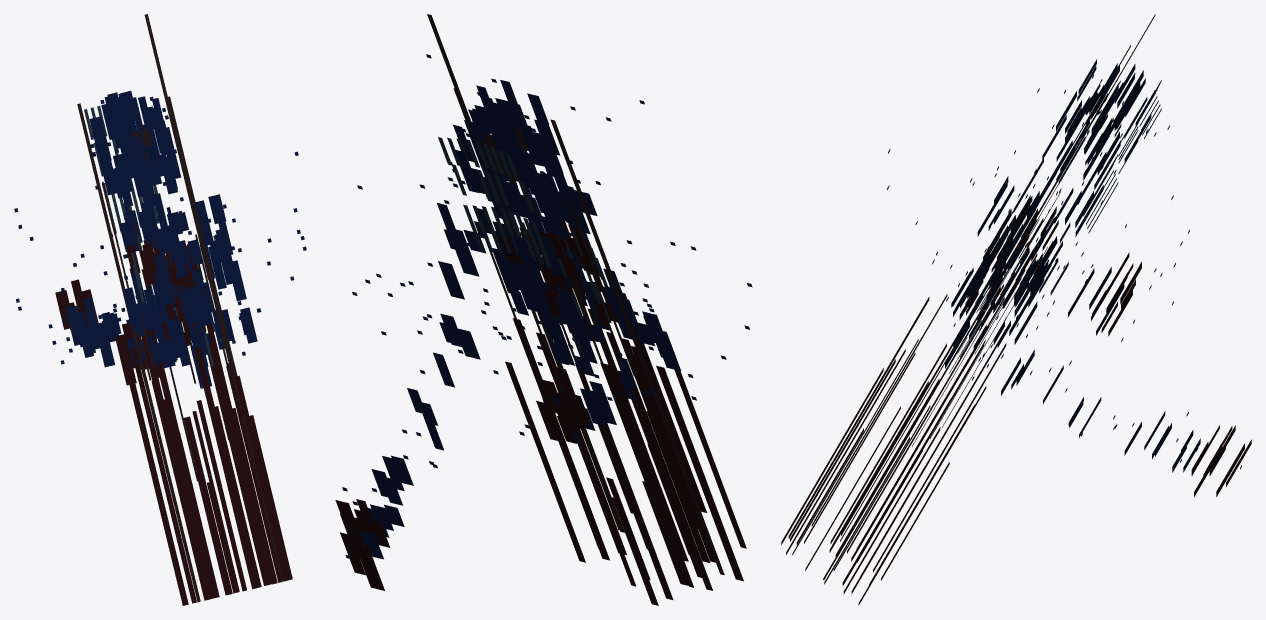
File: black_ice_lich.glb
3 renders of one model, left to right at view 1: azimuth 30°, elevation 25°; view 2: azimuth 150°, elevation 25°; view 3: azimuth 270°, elevation 25°, orthographic. The views are drawn at different scales.
Visible parts, largest first — view 1: black_ice_lich_inner, black_ice_lich_shell, black_ice_lich_dust; view 2: black_ice_lich_inner, black_ice_lich_shell, black_ice_lich_dust; view 3: black_ice_lich_inner, black_ice_lich_shell, black_ice_lich_dust.
Part boxes in pixels (box(x1,y1,x2,y2)): black_ice_lich_inner: box(55, 14, 292, 605); black_ice_lich_shell: box(65, 90, 257, 388); black_ice_lich_dust: box(14, 93, 306, 364); black_ice_lich_inner: box(335, 14, 746, 605); black_ice_lich_shell: box(358, 80, 680, 559); black_ice_lich_dust: box(342, 54, 752, 558); black_ice_lich_inner: box(781, 14, 1251, 605); black_ice_lich_shell: box(945, 59, 1225, 476); black_ice_lich_dust: box(887, 73, 1241, 469).
Bounding box in the file's own units: 1.86 × 3.12 × 2.25.
